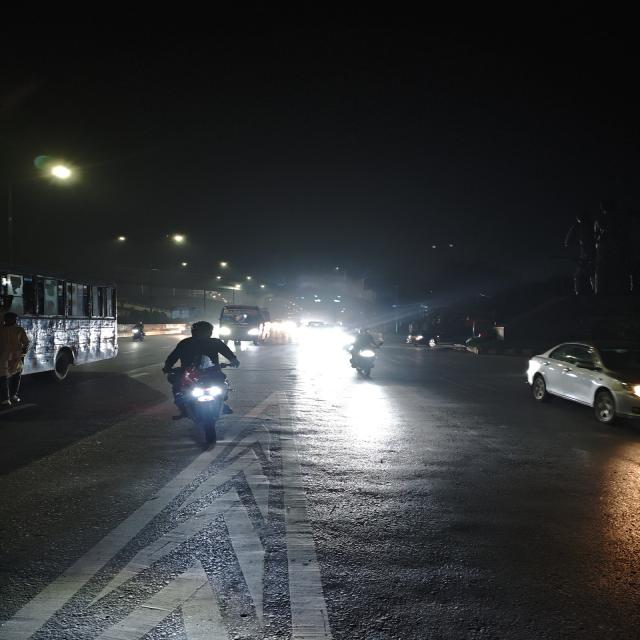bus: (5, 265, 126, 383), (221, 300, 269, 346)
car: (526, 344, 636, 424)
motorcycle: (159, 317, 244, 440), (350, 325, 388, 381), (124, 322, 153, 346)
